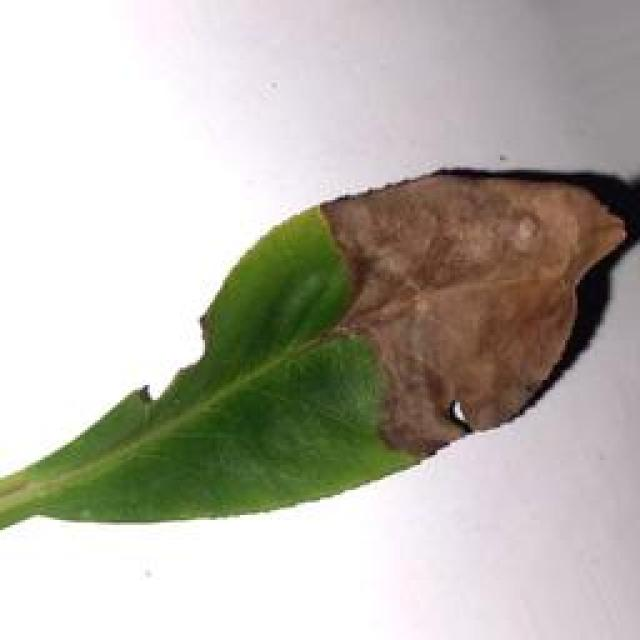Brown Blight: (0, 158, 640, 581)
